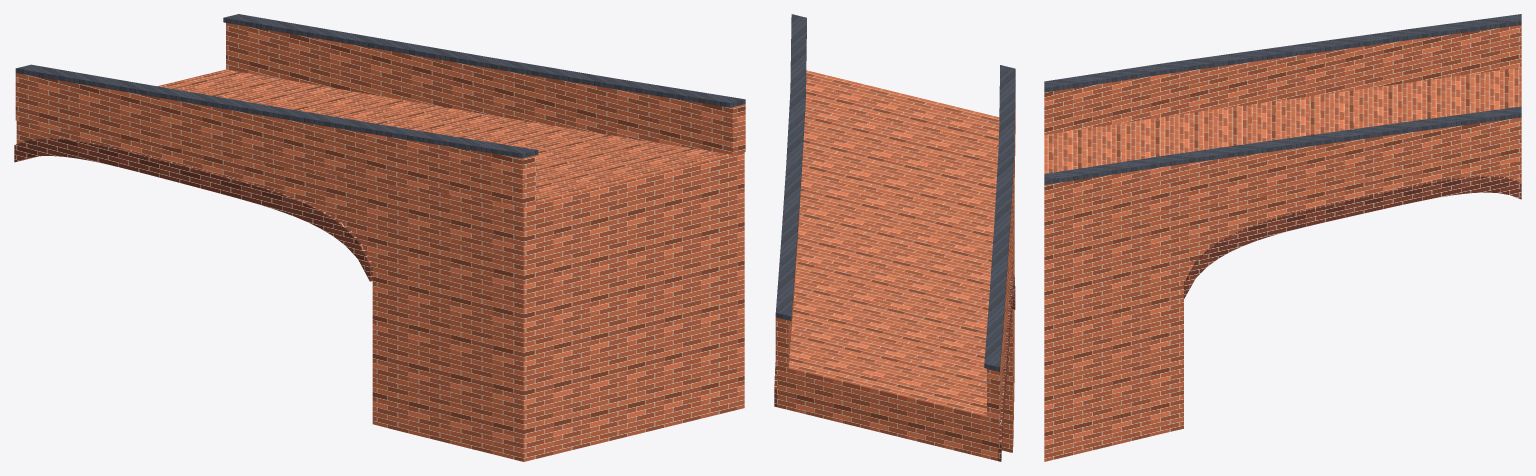
Rendered from bridge-1.glb.
The picture shows the model from 3 angles, left to right: view 1: azimuth 30°, elevation 25°; view 2: azimuth 150°, elevation 25°; view 3: azimuth 270°, elevation 25°; orthographic projection. The views are drawn at different scales.
Parts seen in each view (by area): view 1: Masonry, Parapet.001, ArchRing; view 2: Masonry, Parapet.001, ArchRing; view 3: Masonry, Parapet.001, ArchRing.
Boxes of the visible parts, left/top/right/bottom form: Masonry: left=15, top=23, right=745, bottom=461; Parapet.001: left=15, top=14, right=745, bottom=158; ArchRing: left=14, top=138, right=372, bottom=281; Masonry: left=775, top=70, right=1015, bottom=460; Parapet.001: left=775, top=14, right=1015, bottom=371; ArchRing: left=774, top=274, right=1015, bottom=461; Masonry: left=1044, top=25, right=1521, bottom=461; Parapet.001: left=1044, top=14, right=1521, bottom=184; ArchRing: left=1184, top=175, right=1521, bottom=298.
Size of the model in its own units: 12.78 by 8.01 by 12.3.
Materials: 3 (3 with a texture image).
